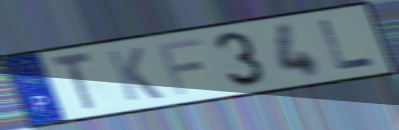3: (214, 28, 268, 89)
4: (274, 20, 326, 79)
F: (155, 36, 206, 97)
K: (104, 45, 167, 103)
L: (316, 17, 378, 72)
T: (49, 49, 100, 114)
